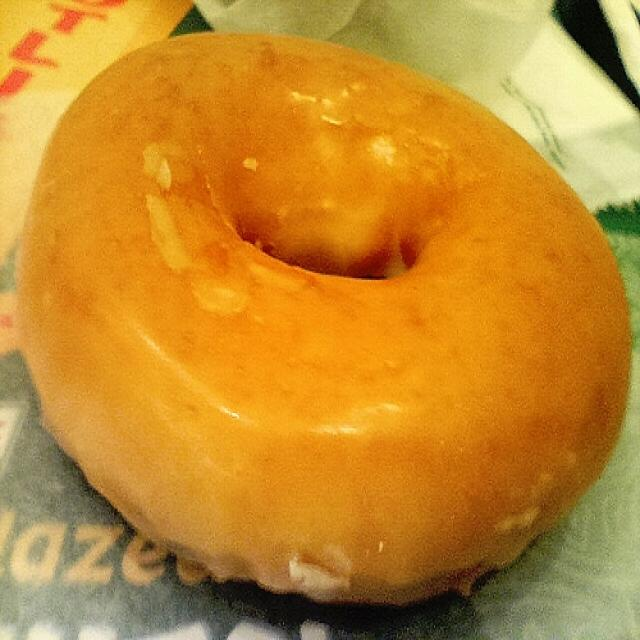炸货点心: (18, 17, 613, 584)
